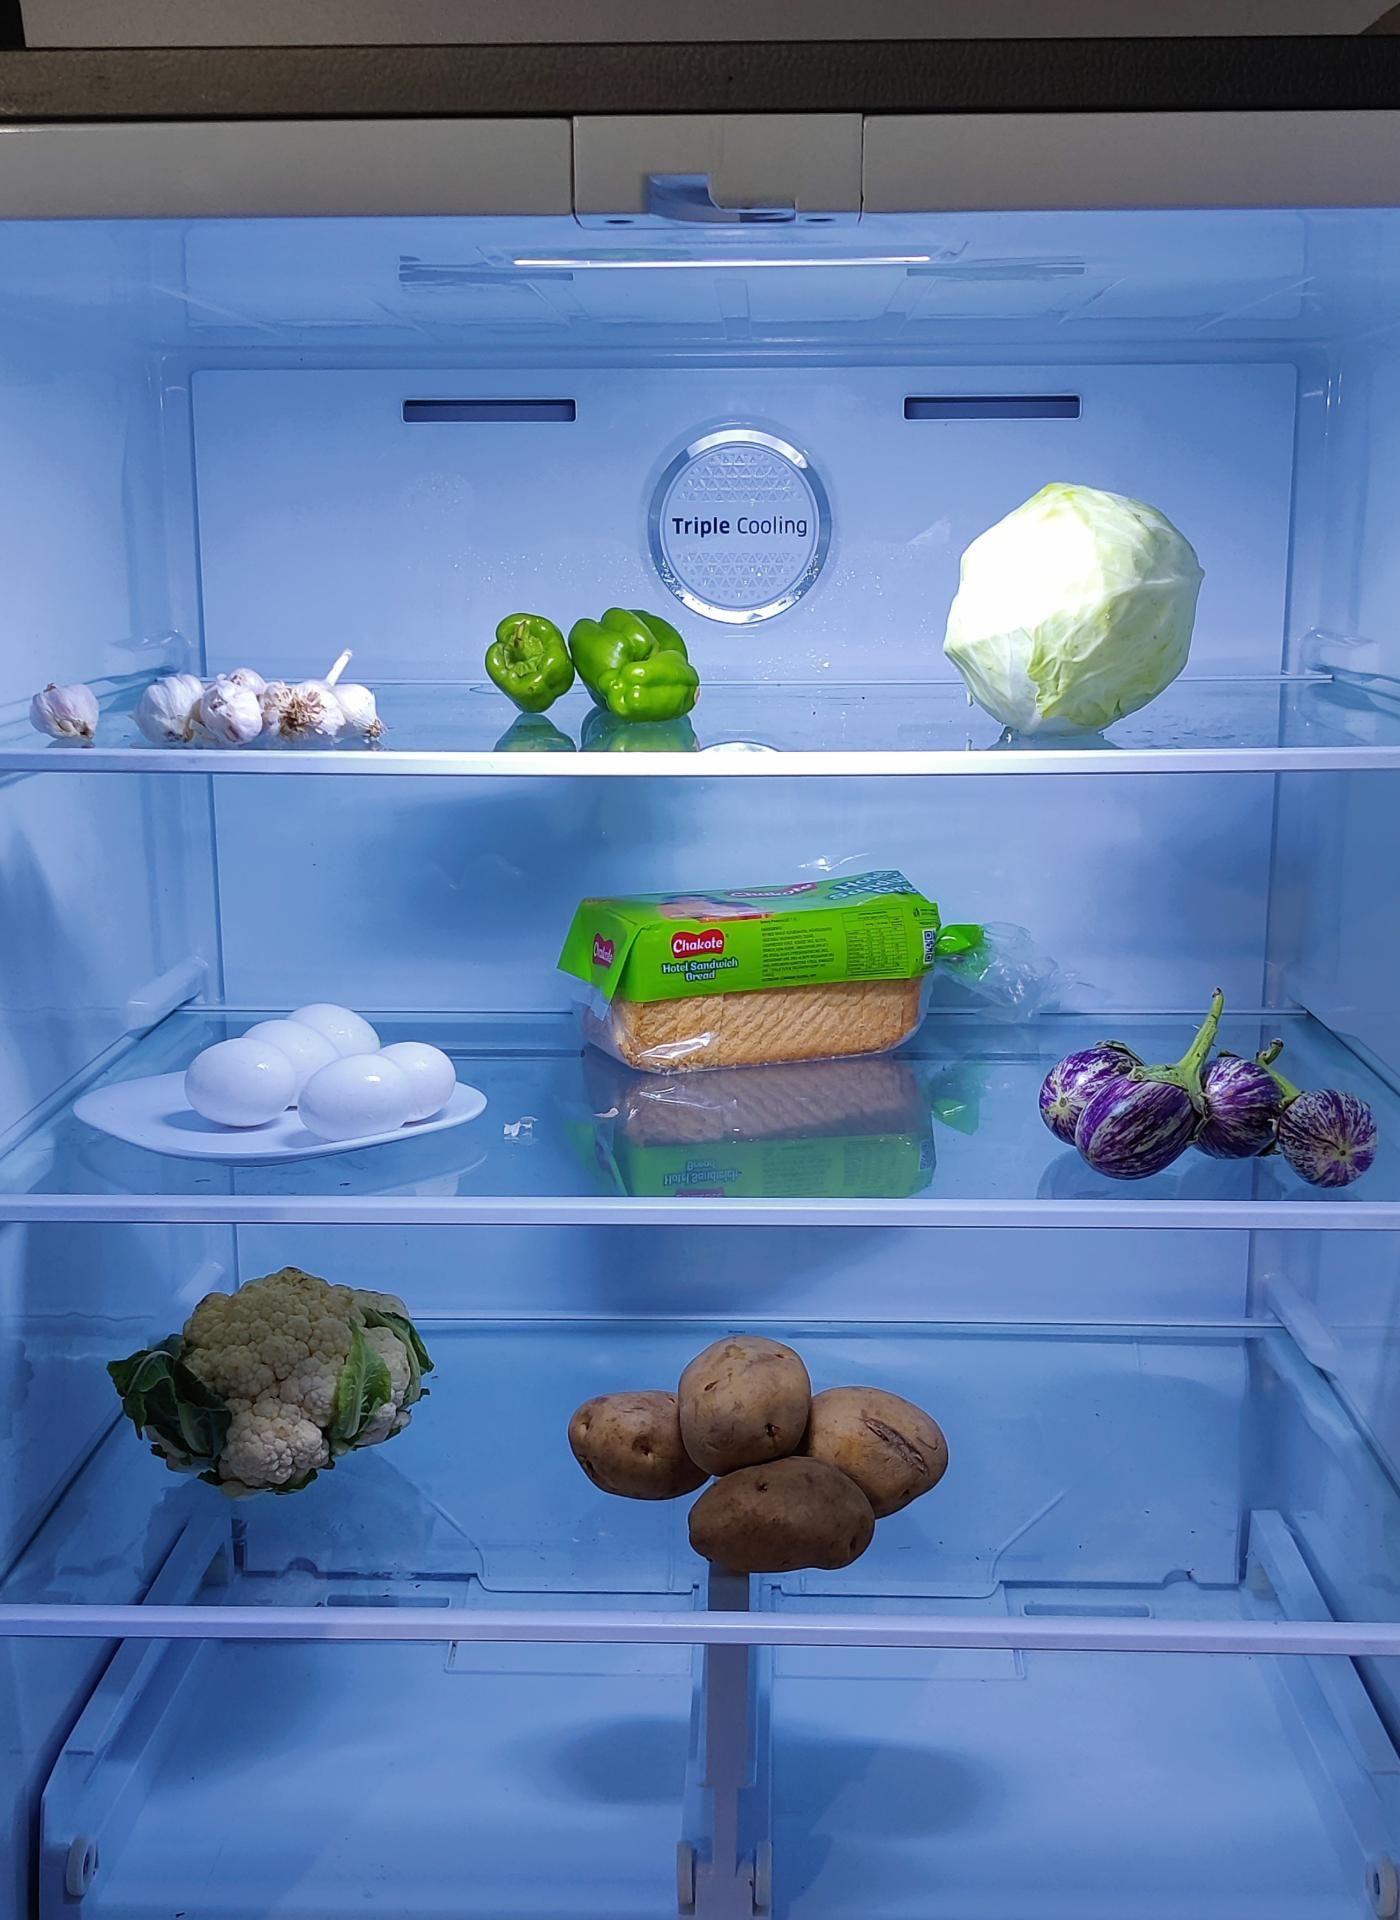bread: (561, 872, 960, 1082)
brinjal: (1029, 1039, 1378, 1191)
cabbage: (939, 481, 1200, 739)
capsicum: (482, 601, 702, 727)
cauliflower: (118, 1270, 435, 1498)
egg: (186, 988, 464, 1137)
garlic: (146, 650, 388, 753)
potato: (565, 1324, 954, 1570)
